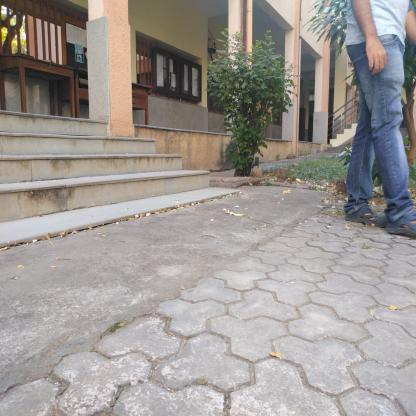stairs: (1, 121, 107, 224)
